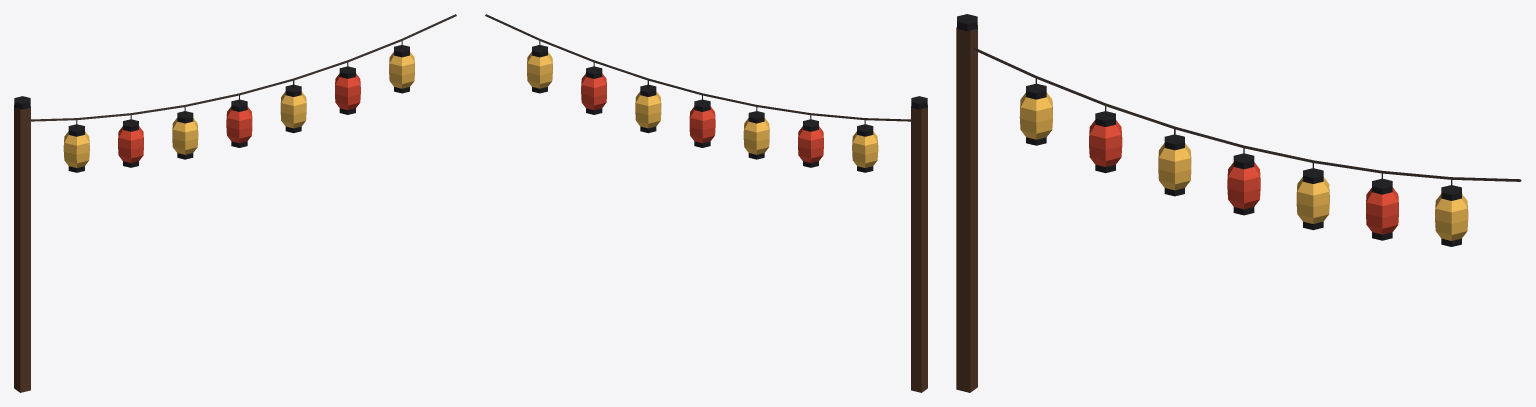
Rendered from chochin-span-yellow.glb.
3 views of the same model, side by side, from view 1: azimuth 30°, elevation 25°; view 2: azimuth 150°, elevation 25°; view 3: azimuth 330°, elevation 25° (orthographic). The views are drawn at different scales.
Parts seen in each view (by area): view 1: ChochinSpanYellow_Pole, ChochinSpanYellow_LanternA, ChochinSpanYellow_LanternB, ChochinSpanYellow_Caps, ChochinSpanYellow_Wire; view 2: ChochinSpanYellow_Pole, ChochinSpanYellow_LanternA, ChochinSpanYellow_LanternB, ChochinSpanYellow_Caps, ChochinSpanYellow_Wire; view 3: ChochinSpanYellow_Pole, ChochinSpanYellow_LanternA, ChochinSpanYellow_LanternB, ChochinSpanYellow_Caps, ChochinSpanYellow_Wire.
Boxes of the visible parts, x1,y1,x2,y2 form: ChochinSpanYellow_Pole: (14, 105, 30, 392); ChochinSpanYellow_LanternA: (63, 52, 414, 167); ChochinSpanYellow_LanternB: (118, 73, 360, 162); ChochinSpanYellow_Caps: (14, 45, 409, 172); ChochinSpanYellow_Wire: (31, 14, 456, 127); ChochinSpanYellow_Pole: (911, 105, 927, 392); ChochinSpanYellow_LanternA: (527, 52, 878, 167); ChochinSpanYellow_LanternB: (581, 73, 823, 162); ChochinSpanYellow_Caps: (532, 45, 927, 172); ChochinSpanYellow_Wire: (485, 14, 910, 127); ChochinSpanYellow_Pole: (956, 25, 977, 392); ChochinSpanYellow_LanternA: (1019, 92, 1468, 240); ChochinSpanYellow_LanternB: (1089, 120, 1398, 234); ChochinSpanYellow_Caps: (957, 14, 1461, 246); ChochinSpanYellow_Wire: (973, 47, 1521, 189).
Bounding box in the file's own units: 24.46 × 15.3 × 1.25.
